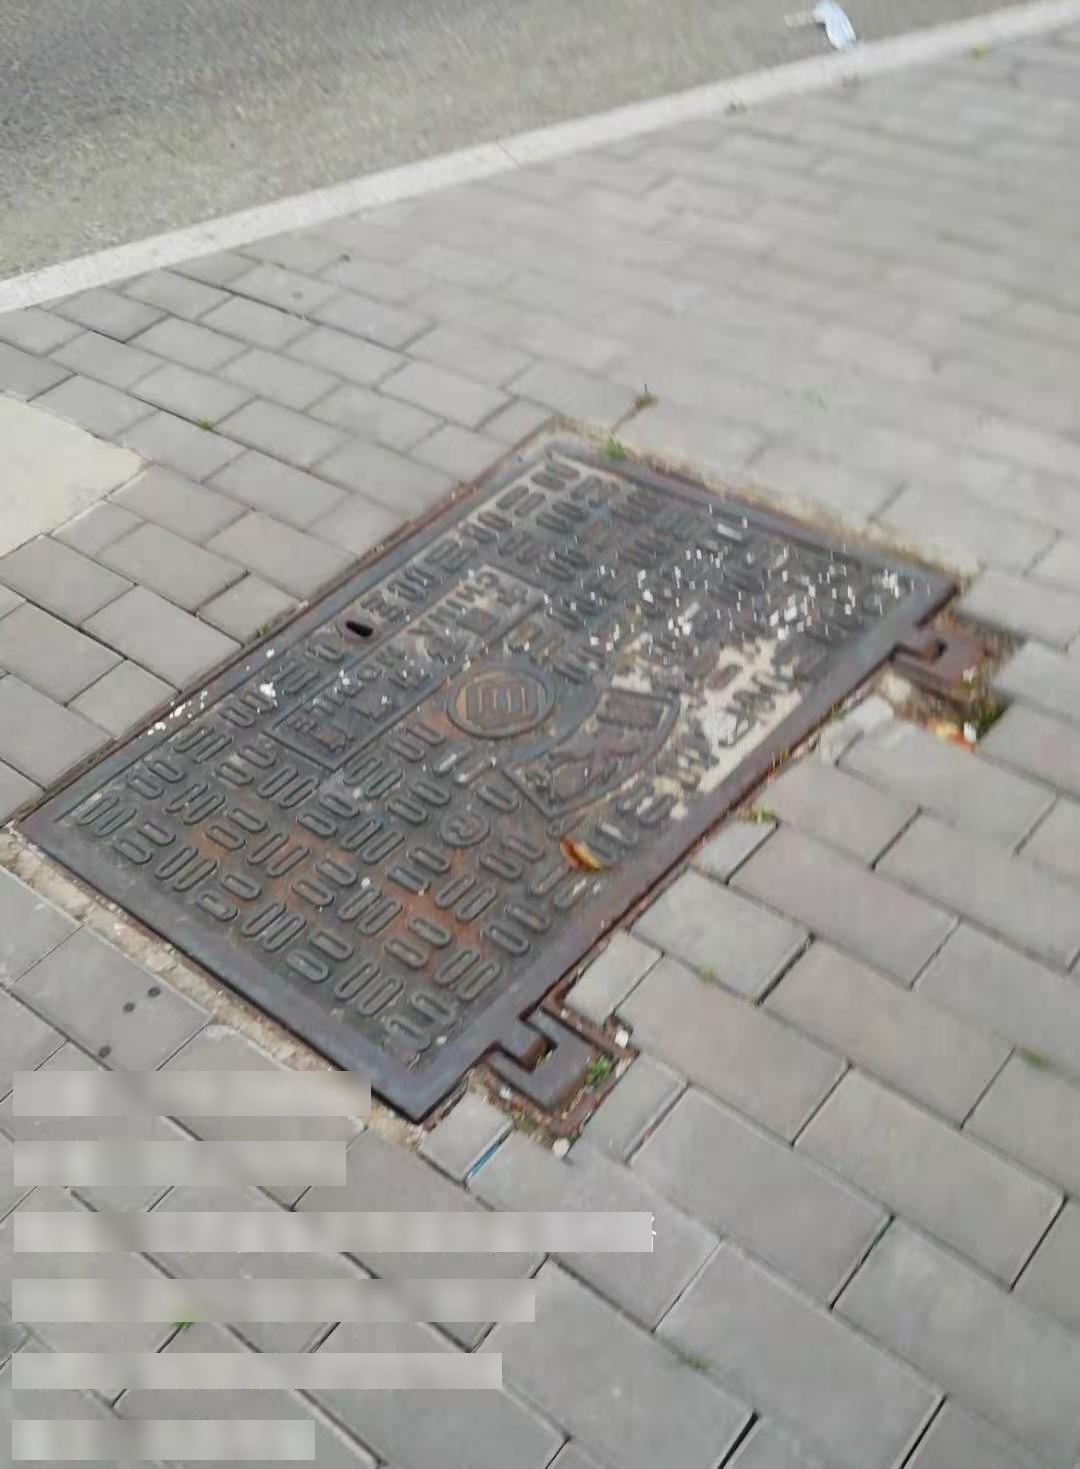well: (21, 415, 951, 1125)
